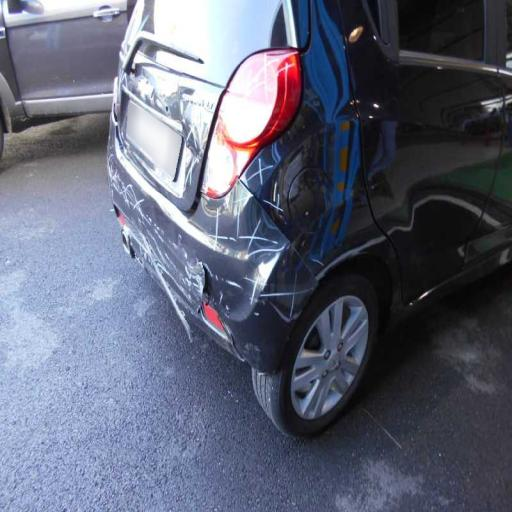scratch: (127, 42, 297, 334)
